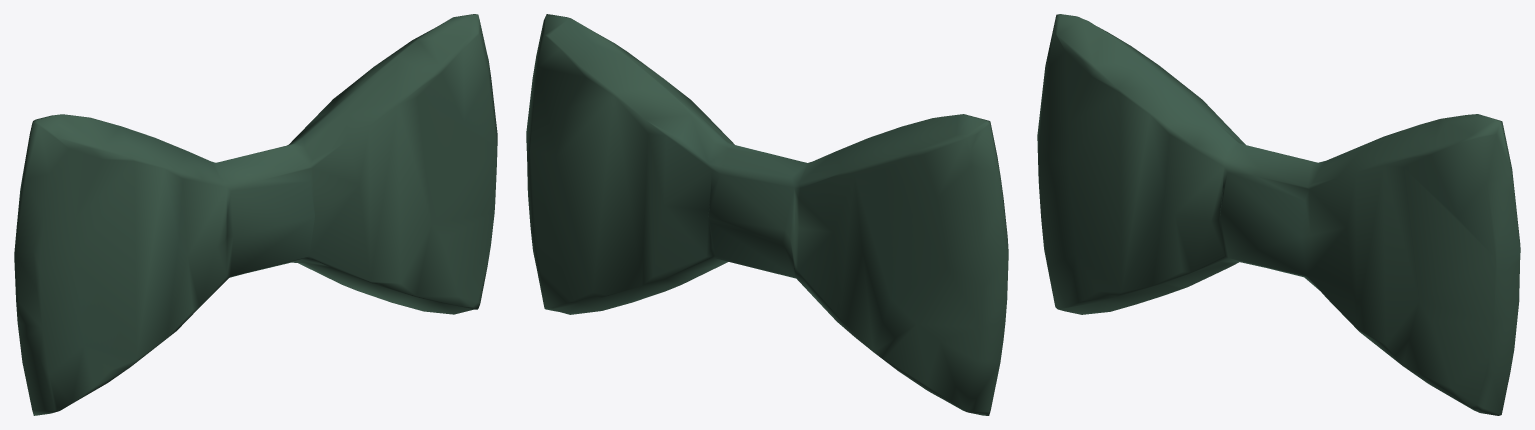
File: gen3d-bow-tie-lod1.glb
3 views of the same model, side by side, from view 1: azimuth 30°, elevation 25°; view 2: azimuth 150°, elevation 25°; view 3: azimuth 330°, elevation 25° (orthographic).
Parts seen in each view (by area): view 1: part_0; view 2: part_0; view 3: part_0.
Boxes of the visible parts, x1,y1,x2,y2 form: part_0: (14, 14, 497, 415); part_0: (526, 14, 1008, 415); part_0: (1037, 14, 1520, 415).
Size of the model in its own units: 1.7 by 0.9984 by 0.2303.
